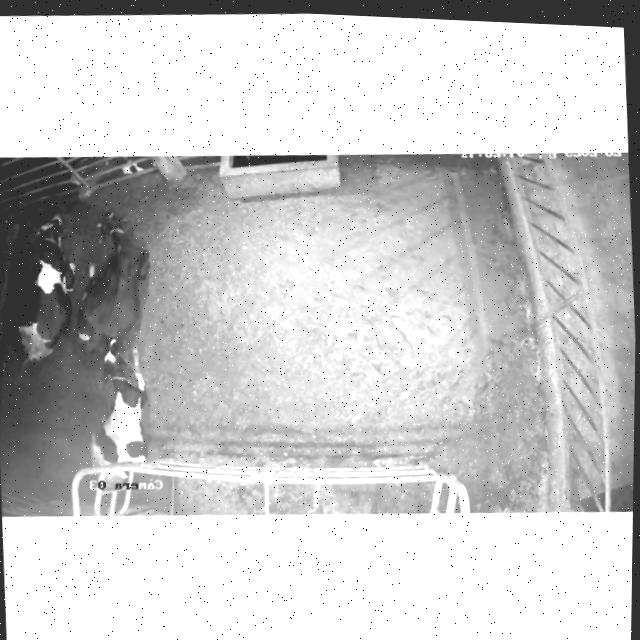lay: (59, 204, 168, 357), (74, 330, 169, 480), (2, 197, 81, 370)
